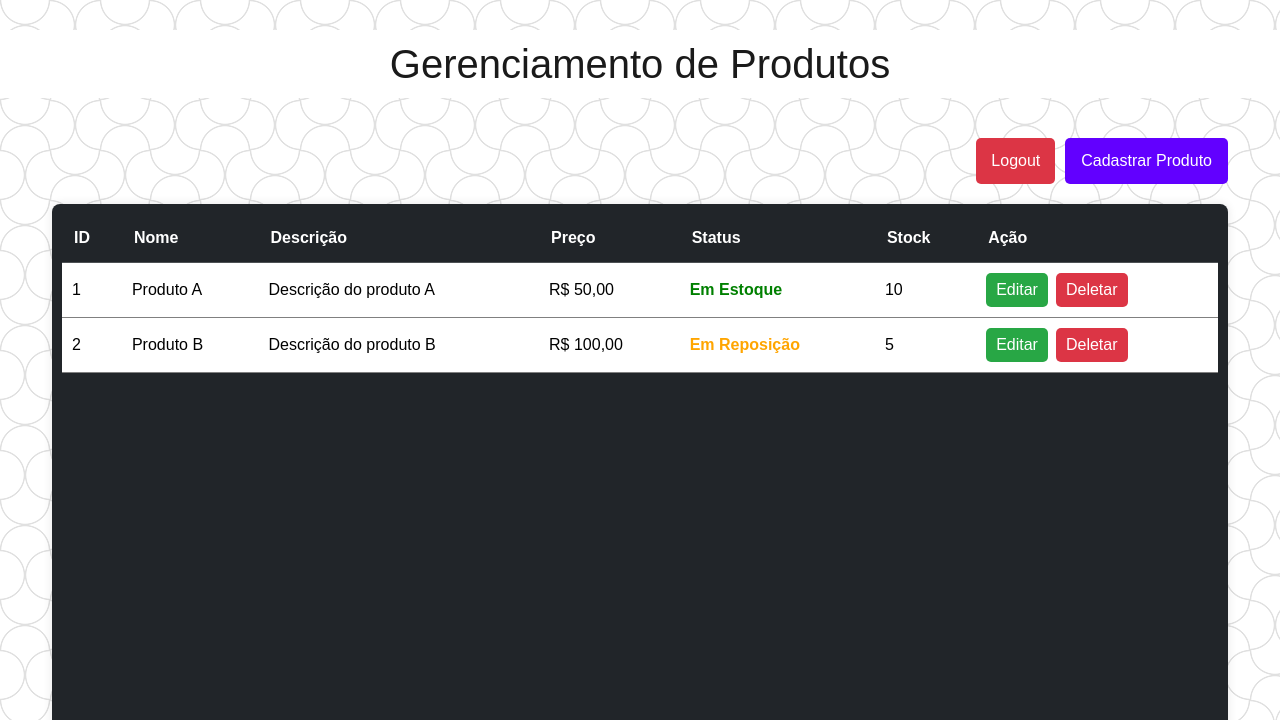
Scenario: Home › deve excluir um produto após clicar em 'Deletar'
Expected: the text "Produto A" is shown, [122,262,258,318]
Expected: the text "Produto B" is shown, [122,318,258,372]
Click the button "Deletar" in the row of "Descrição do produto A" at coordinates (1092, 290), box [1056,273,1128,307]
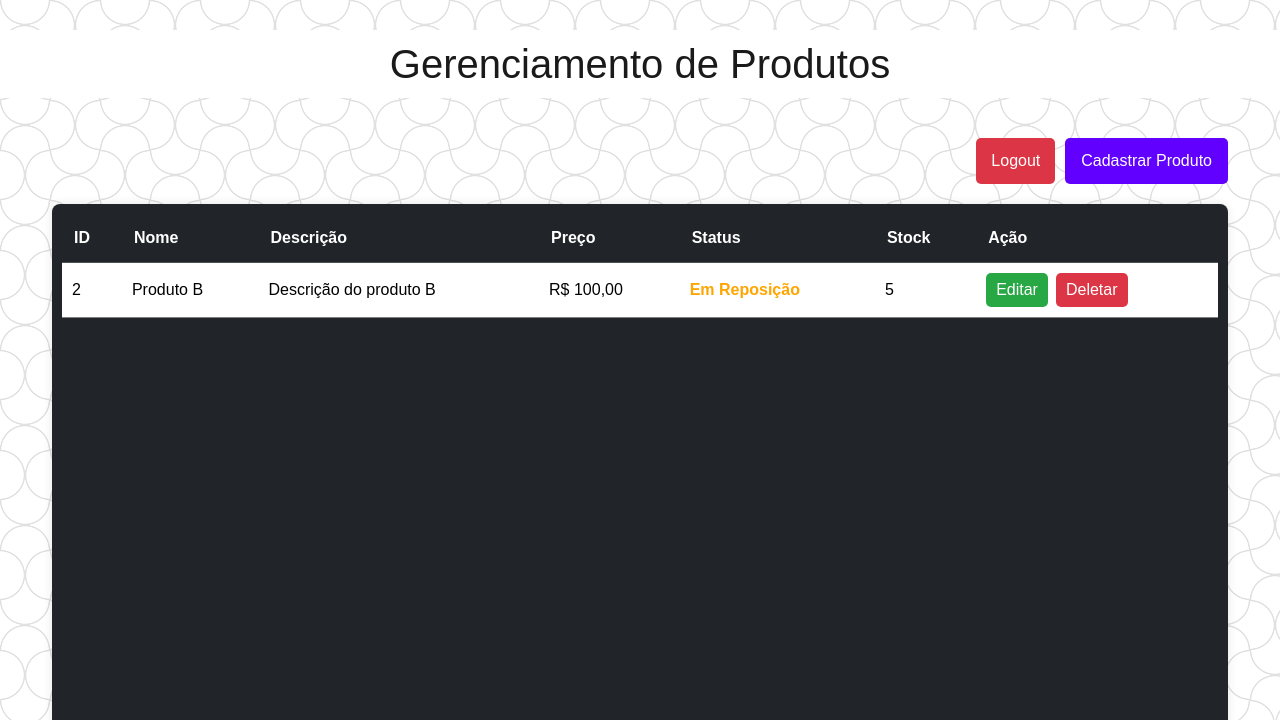
Expected: the text "Produto B" is shown, [122,262,258,318]
Now the text "Produto A" is gone
